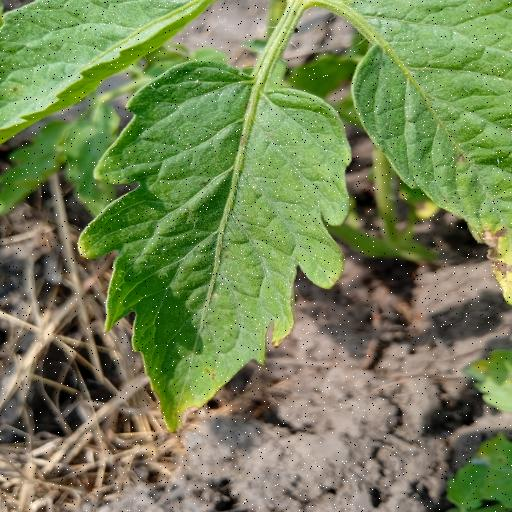Tomato_Brown_Spots: (83, 58, 355, 437), (350, 0, 512, 304)
